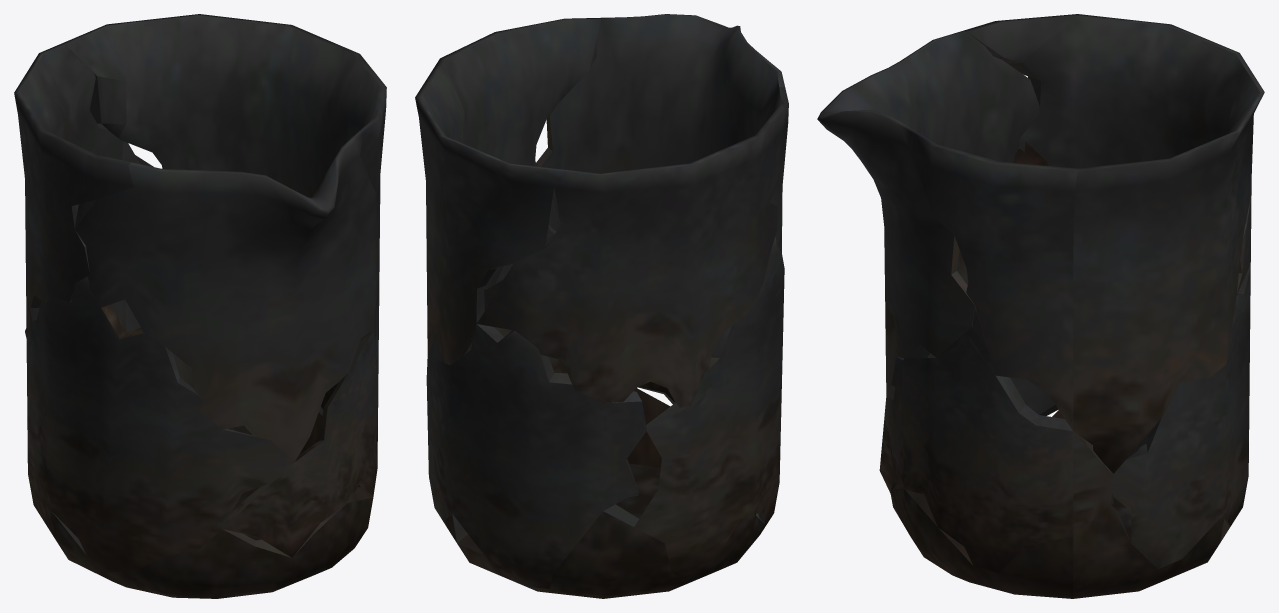
Rendered from beaker_broken.dae.
3 views of the same model, side by side, from view 1: azimuth 30°, elevation 25°; view 2: azimuth 150°, elevation 25°; view 3: azimuth 270°, elevation 25° (orthographic).
Parts seen in each view (by area): view 1: polySurface6, polySurface65, polySurface1, polySurface64, polySurface60, polySurface68, polySurface63; view 2: polySurface64, polySurface63, polySurface1, polySurface6, polySurface65, polySurface68, polySurface60; view 3: polySurface1, polySurface60, polySurface6, polySurface64, polySurface63, polySurface68, polySurface65.
Part boxes in pixels (x1,y1,x2,y2): polySurface6: [74, 131, 378, 462]; polySurface65: [26, 276, 293, 572]; polySurface1: [63, 14, 386, 298]; polySurface64: [14, 43, 153, 338]; polySurface60: [222, 277, 379, 557]; polySurface68: [45, 406, 373, 598]; polySurface63: [110, 299, 251, 434]; polySurface64: [477, 86, 788, 407]; polySurface63: [426, 324, 646, 589]; polySurface1: [415, 18, 601, 365]; polySurface6: [536, 14, 786, 252]; polySurface65: [634, 236, 784, 580]; polySurface68: [443, 388, 767, 598]; polySurface60: [464, 225, 675, 404]; polySurface1: [910, 66, 1264, 473]; polySurface60: [879, 305, 1113, 572]; polySurface6: [817, 30, 1039, 398]; polySurface64: [964, 14, 1251, 294]; polySurface63: [1109, 265, 1250, 568]; polySurface68: [890, 410, 1229, 598]; polySurface65: [927, 142, 1147, 446].
Bounding box in the file's own units: 0.2975 × 0.3996 × 0.3561.
